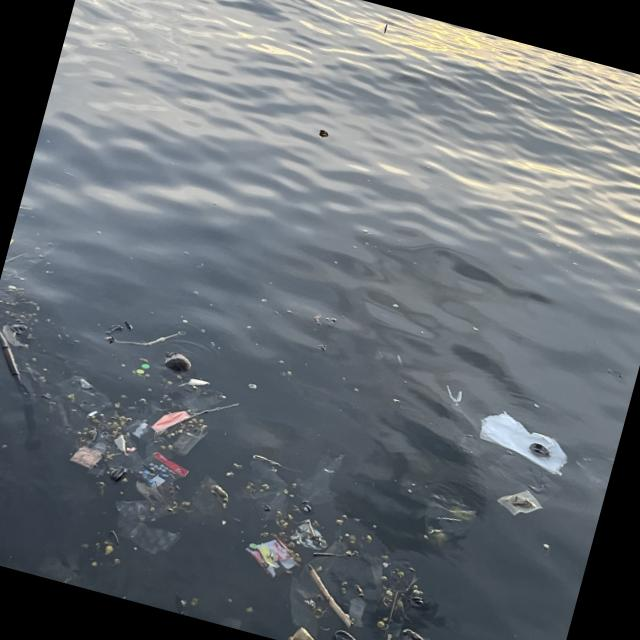foam: (189, 378, 210, 391)
plastic bag: (477, 406, 571, 480)
